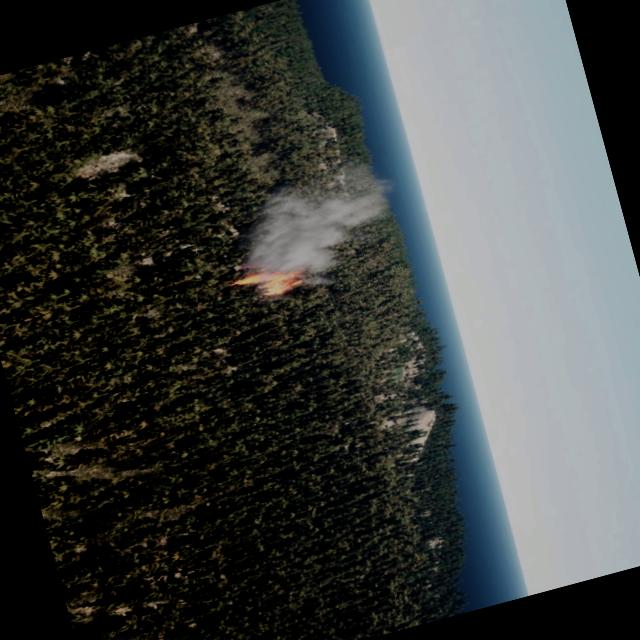fire: (231, 260, 306, 306)
smoke: (216, 156, 407, 297)
